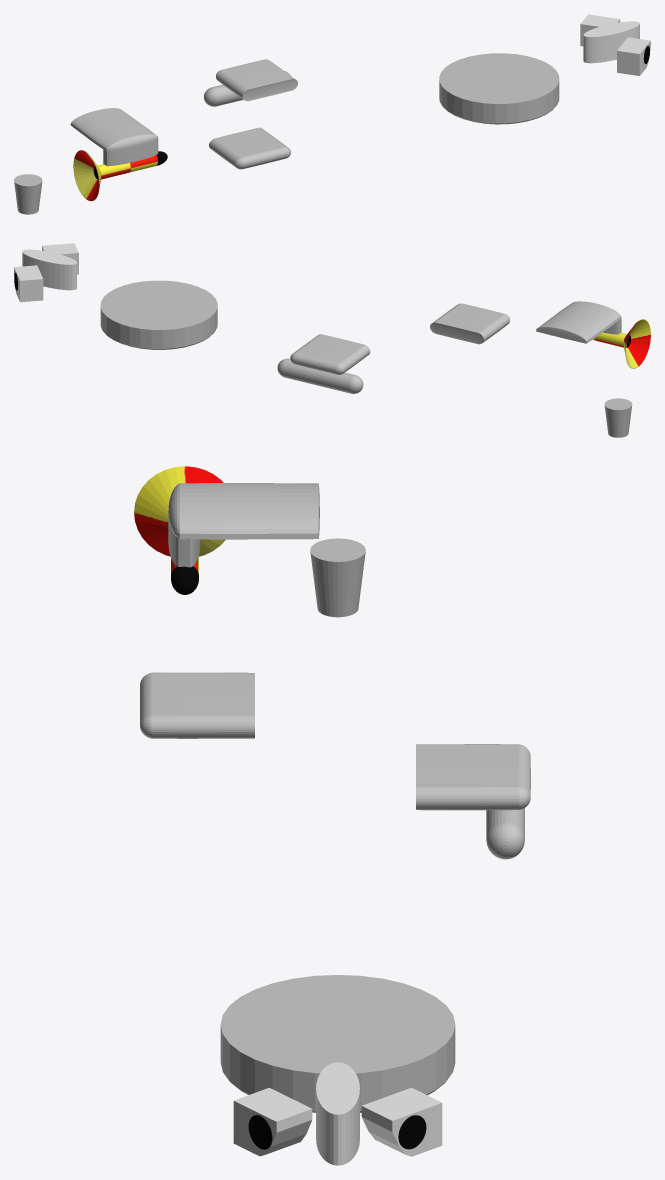
The picture shows the model from 3 angles, top to bottom: view 1: azimuth 30°, elevation 25°; view 2: azimuth 150°, elevation 25°; view 3: azimuth 270°, elevation 25°; orthographic projection. The views are drawn at different scales.
Parts seen in each view (by area): view 1: 円柱, 球.002, 球.001, 球, 円柱.002, 円柱.005, 立方体.002, 円柱.006, 円柱.003, 円柱.004, 円柱.001, 立方体.001; view 2: 円柱, 球.002, 球, 球.001, 円柱.002, 円柱.001, 円柱.005, 円柱.006, 立方体.001, 立方体.002, 円柱.004; view 3: 円柱, 球.002, 球, 球.001, 円柱.002, 円柱.006, 立方体.002, 立方体.001, 円柱.005, 円柱.001.
Boxes of the visible parts, x1,y1,x2,y2 form: 円柱: [439, 53, 559, 124]; 球.002: [70, 108, 157, 151]; 球.001: [216, 59, 297, 101]; 球: [209, 127, 290, 169]; 円柱.002: [583, 21, 639, 63]; 円柱.005: [73, 150, 101, 201]; 立方体.002: [617, 37, 650, 75]; 円柱.006: [14, 174, 42, 214]; 円柱.003: [103, 138, 158, 166]; 円柱.004: [93, 155, 157, 179]; 円柱.001: [204, 71, 290, 106]; 立方体.001: [580, 14, 620, 46]; 円柱: [100, 280, 217, 349]; 球.002: [536, 301, 621, 343]; 球: [430, 303, 509, 344]; 球.001: [290, 334, 370, 374]; 円柱.002: [22, 249, 76, 290]; 円柱.001: [277, 358, 363, 393]; 円柱.005: [623, 319, 650, 368]; 円柱.006: [604, 398, 632, 437]; 立方体.001: [14, 265, 43, 302]; 立方体.002: [42, 243, 78, 274]; 円柱.004: [592, 332, 630, 347]; 円柱: [220, 975, 455, 1112]; 球.002: [168, 483, 319, 539]; 球: [140, 672, 254, 738]; 球.001: [416, 744, 530, 810]; 円柱.002: [316, 1062, 359, 1165]; 円柱.006: [310, 538, 365, 617]; 立方体.002: [233, 1087, 312, 1156]; 立方体.001: [361, 1087, 442, 1156]; 円柱.005: [134, 466, 225, 556]; 円柱.001: [486, 808, 524, 859].
Bounding box in the file's own units: 9.61 × 1.4 × 2.72.
Materials: 13 (2 with a texture image).
